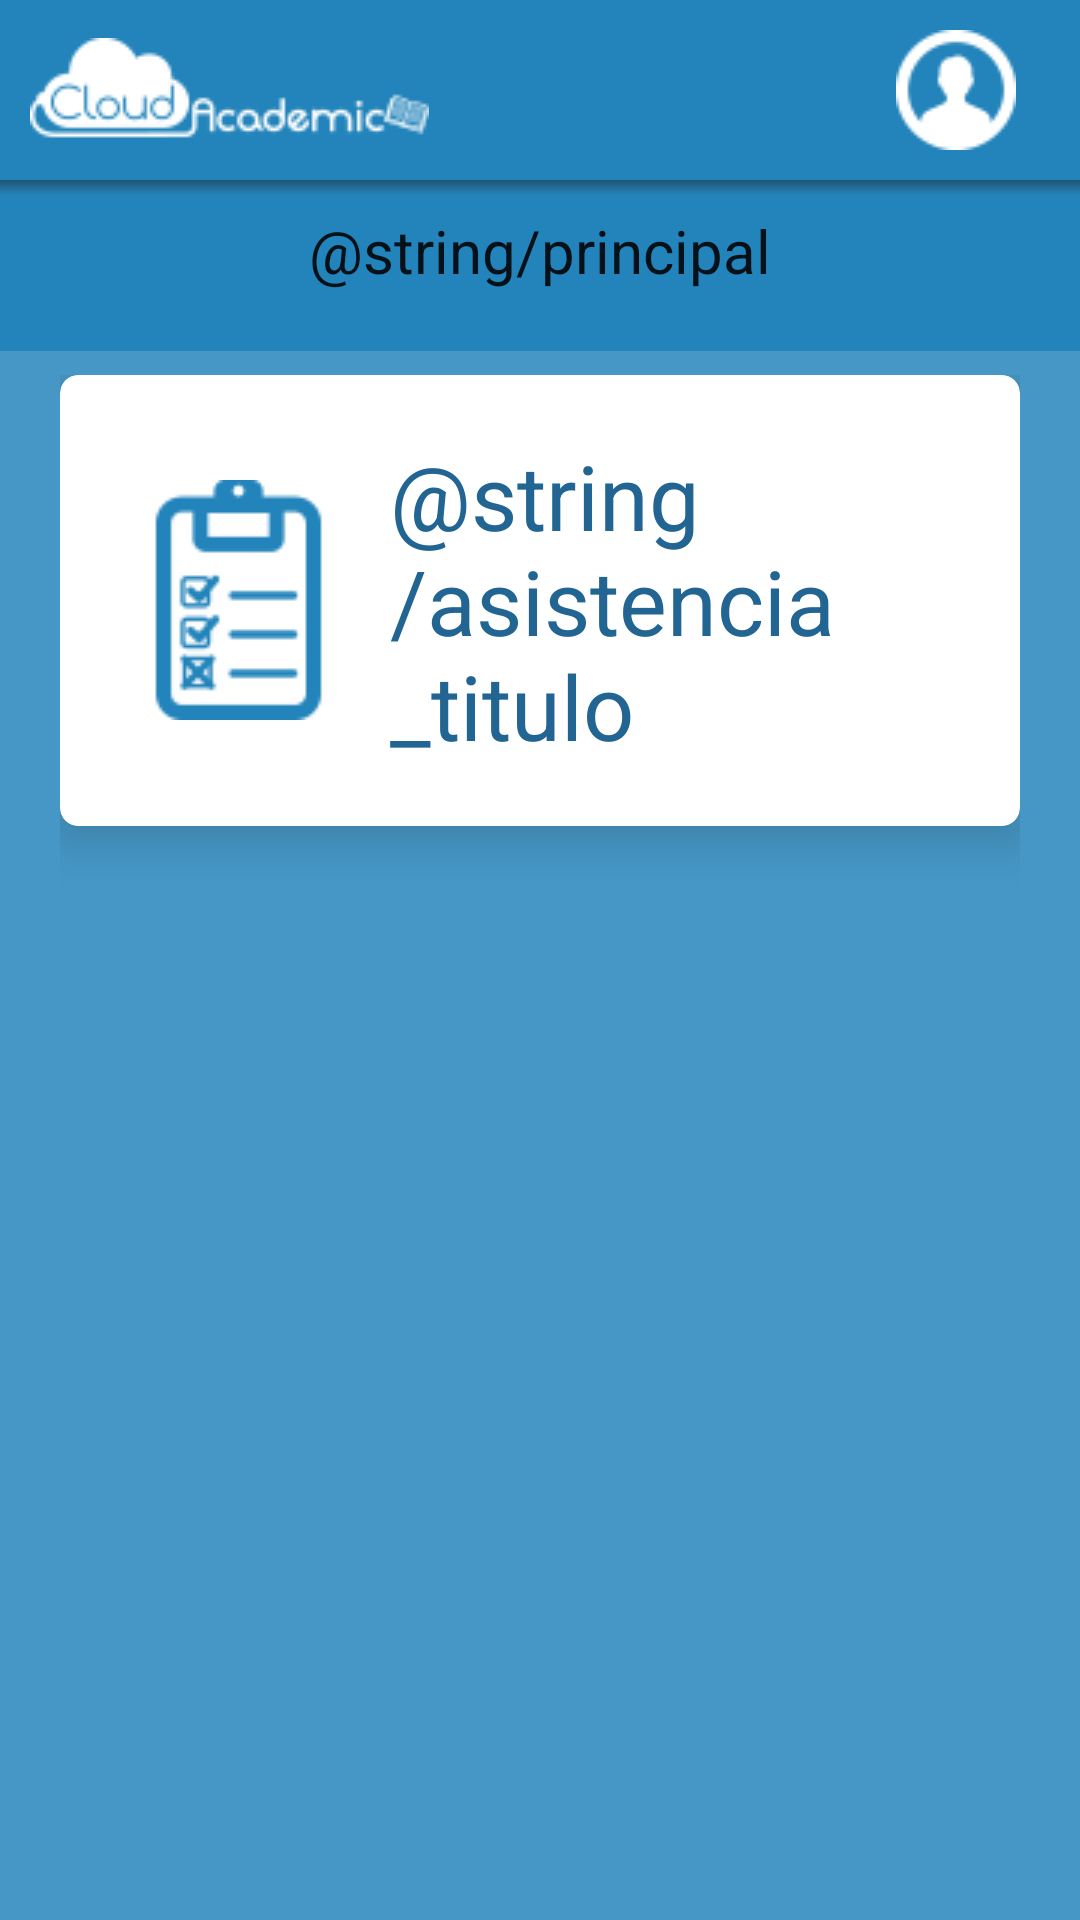

Icon bounding boxes for this 1080px×1920px phone screenshot, format (x1, y1, x2, y2):
user: (896, 30, 1016, 150)
